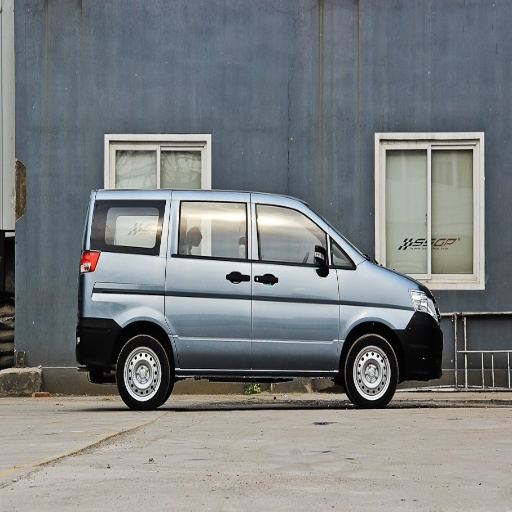back_right_door: (169, 196, 250, 365)
front_right_door: (250, 199, 350, 367)
trunk: (86, 253, 169, 361)
